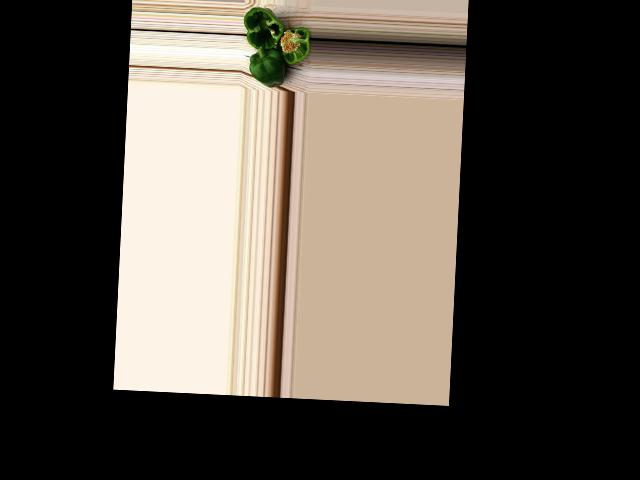bell_pepper: (276, 18, 311, 68)
